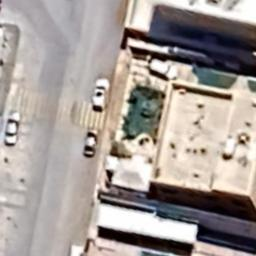SUV: (92, 76, 110, 112)
sedan: (4, 110, 20, 148), (82, 128, 98, 158)
